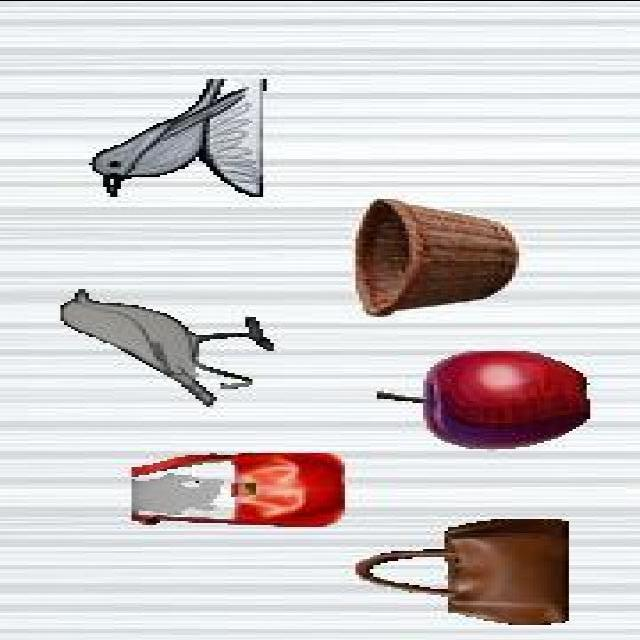Other Objects: (60, 288, 274, 406), (354, 517, 568, 625), (87, 76, 269, 196), (374, 349, 592, 449), (352, 198, 518, 316), (131, 452, 343, 528)
